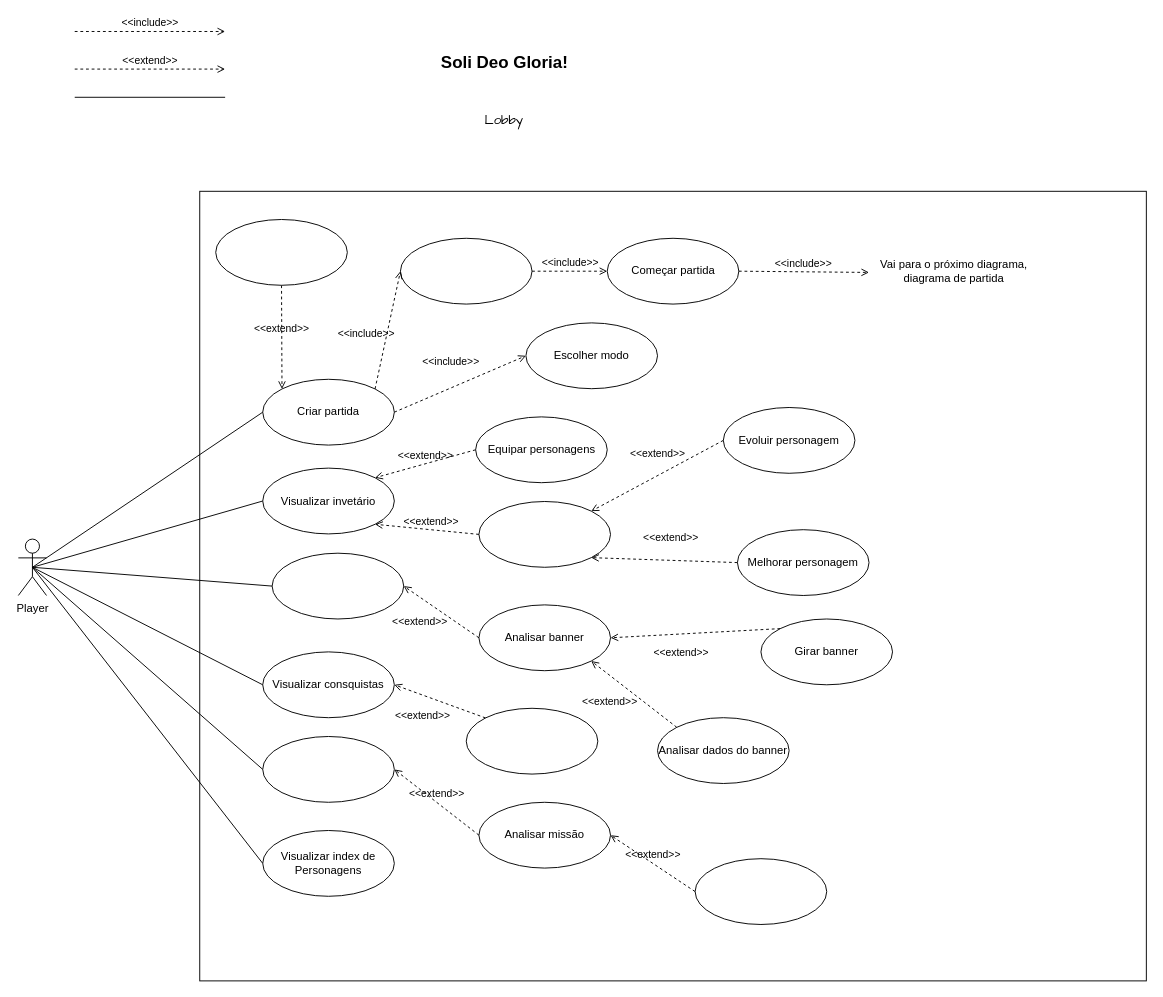
The diagram is 1163 pixels wide and 997 high, and some of its shapes have lost their labels. Here are the shapes that lost their labels. From the top down, the box of each, then its label:
(215, 219, 347, 285): começar tutorial
(400, 237, 532, 304): Escolher Mapa
(478, 501, 611, 567): Analisar personagem
(271, 552, 404, 619): Visualizar loja de banners
(465, 707, 598, 774): Analisar conquista
(262, 736, 394, 802): Visualizar missões
(694, 858, 827, 924): Aceitar missoes
